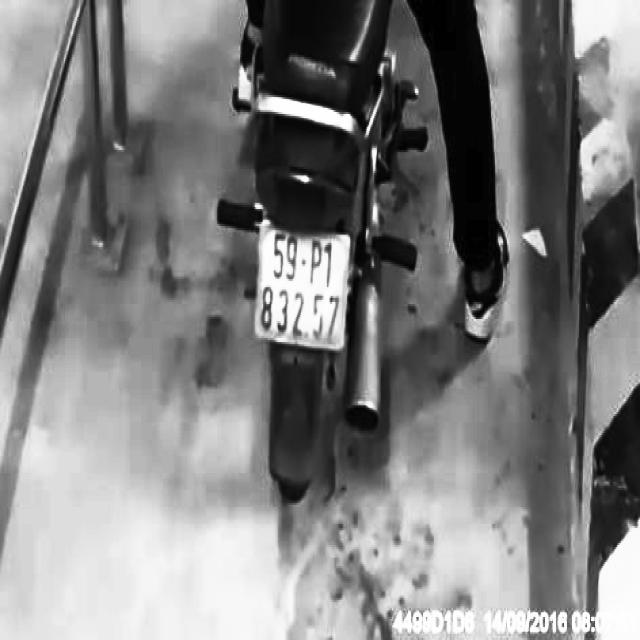license_plate: (256, 220, 356, 356)
